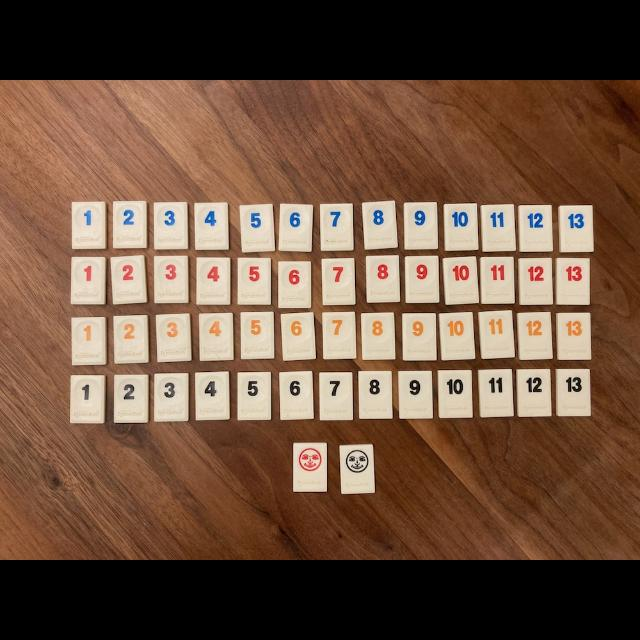blue_1: (71, 201, 106, 249), (70, 376, 105, 424)
blue_10: (438, 370, 472, 418), (445, 204, 478, 251)
blue_11: (478, 370, 513, 416), (481, 206, 516, 251)
blue_12: (518, 369, 551, 416), (519, 206, 552, 251)
blue_13: (556, 369, 590, 416), (559, 206, 593, 251)
blue_2: (114, 375, 149, 422), (112, 201, 146, 248)
blue_3: (154, 374, 189, 421), (154, 202, 188, 250)
blue_4: (194, 202, 228, 250), (195, 372, 229, 420)
blue_5: (241, 205, 275, 252), (238, 372, 271, 420)
blue_6: (279, 372, 313, 419), (279, 204, 312, 251)
blue_7: (320, 372, 352, 420), (321, 204, 353, 251)
blue_8: (363, 202, 397, 249), (359, 371, 392, 419)
blue_9: (399, 371, 432, 419), (405, 202, 438, 249)
joker: (292, 443, 326, 491), (341, 444, 374, 493)
orange_1: (71, 318, 106, 365)
orange_10: (439, 313, 474, 361)
orange_11: (479, 310, 515, 358)
orange_12: (517, 311, 552, 359)
orange_13: (558, 312, 590, 360)
orange_2: (114, 316, 148, 362)
orange_3: (157, 314, 191, 362)
orange_4: (199, 314, 233, 361)
orange_5: (241, 312, 274, 359)
orange_6: (282, 313, 316, 361)
orange_7: (323, 312, 356, 359)
orange_8: (362, 313, 396, 360)
orange_9: (402, 314, 436, 361)
red_1: (71, 258, 106, 305)
red_10: (443, 257, 479, 304)
red_11: (481, 258, 514, 304)
red_12: (519, 258, 552, 305)
red_13: (556, 259, 590, 305)
red_2: (110, 255, 148, 305)
red_3: (155, 256, 188, 302)
red_4: (196, 258, 230, 305)
red_5: (238, 258, 271, 305)
red_6: (279, 262, 311, 309)
red_7: (322, 259, 355, 305)
red_8: (366, 256, 399, 302)
red_9: (405, 256, 439, 304)
